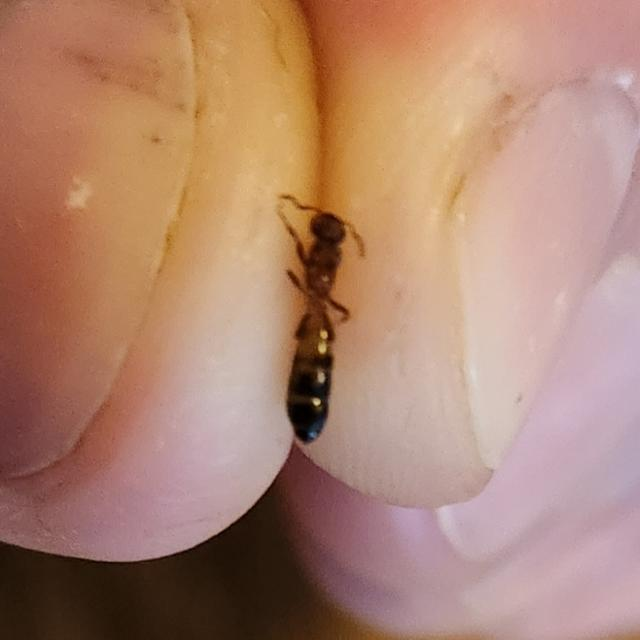Colobopsis: (247, 173, 391, 461)
